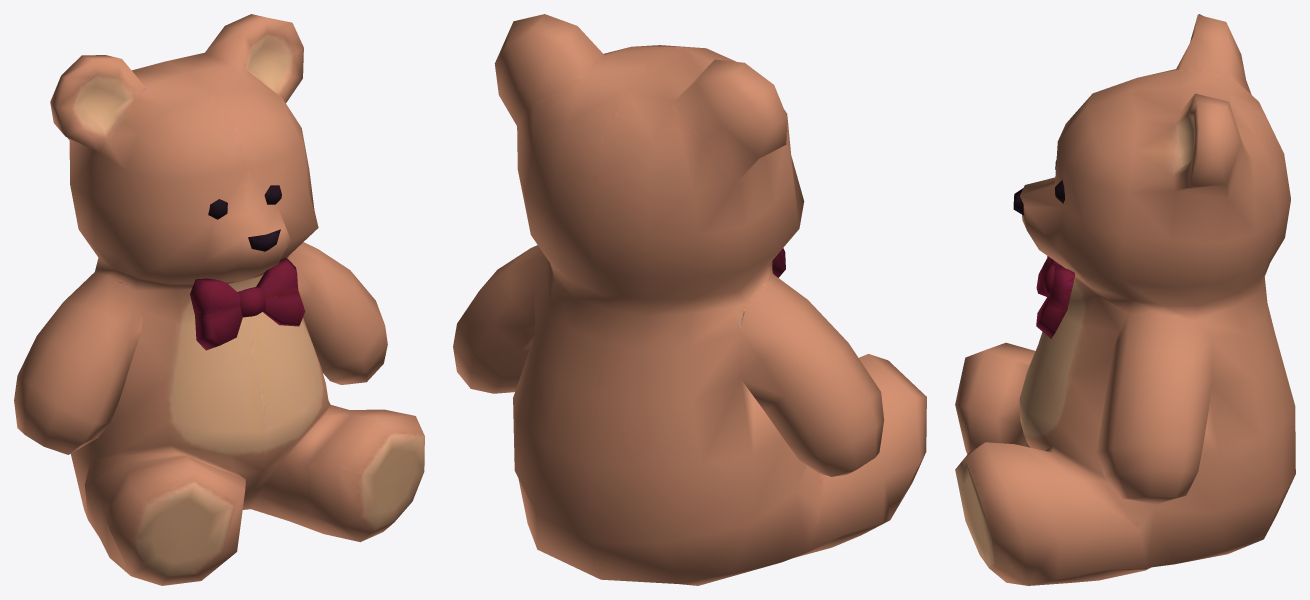
Rendered from teddy.glb.
The picture shows the model from 3 angles, left to right: view 1: azimuth 30°, elevation 25°; view 2: azimuth 150°, elevation 25°; view 3: azimuth 270°, elevation 25°; orthographic projection. The views are drawn at different scales.
Parts seen in each view (by area): view 1: bear_Teddy Bear_0; view 2: bear_Teddy Bear_0; view 3: bear_Teddy Bear_0.
Boxes of the visible parts, left/top/right/bottom form: bear_Teddy Bear_0: left=14, top=14, right=424, bottom=585; bear_Teddy Bear_0: left=453, top=14, right=926, bottom=585; bear_Teddy Bear_0: left=955, top=14, right=1295, bottom=585.
Bounding box in the file's own units: 0.3738 × 0.4567 × 0.2998.
Materials: 1 (1 with a texture image).
